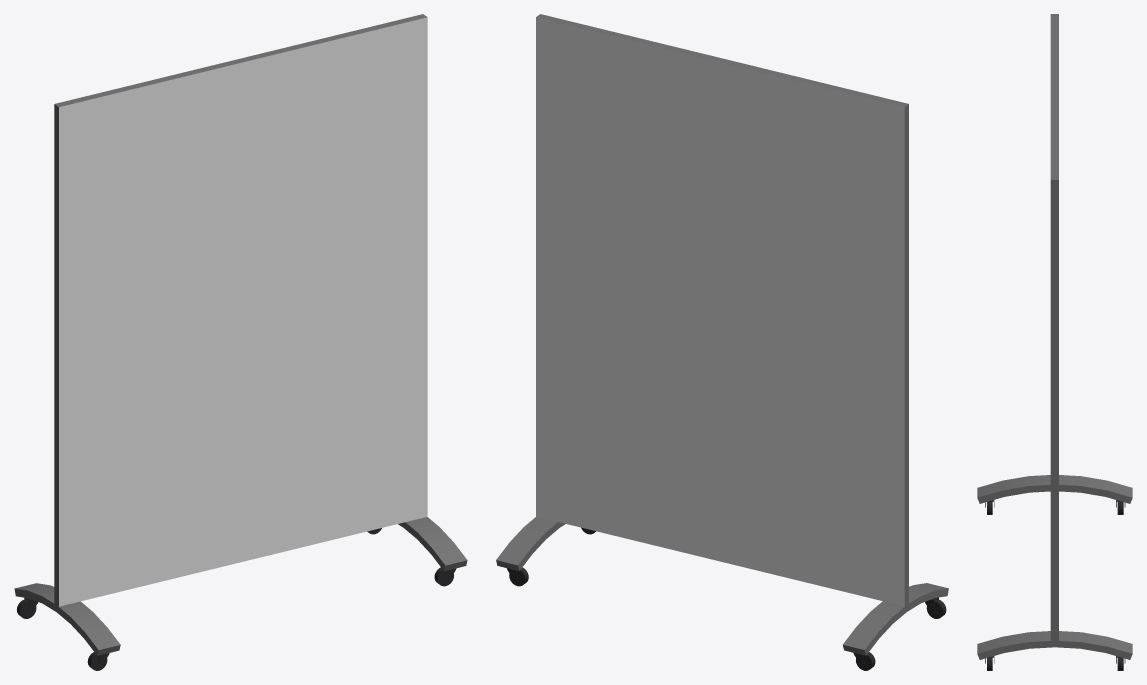
The model's file is Whiteboard.fbx.
3 renders of one model, left to right at view 1: azimuth 30°, elevation 25°; view 2: azimuth 150°, elevation 25°; view 3: azimuth 270°, elevation 25°, orthographic. The views are drawn at different scales.
Visible parts, largest first — view 1: Whiteboard; view 2: Whiteboard; view 3: Whiteboard.
Boxes of the visible parts, left/top/right/bottom form: Whiteboard: left=14, top=14, right=467, bottom=670; Whiteboard: left=496, top=14, right=948, bottom=670; Whiteboard: left=977, top=14, right=1132, bottom=670.
Bounding box in the file's own units: 135 × 187 × 52.99.
1 material, 1 textured.
